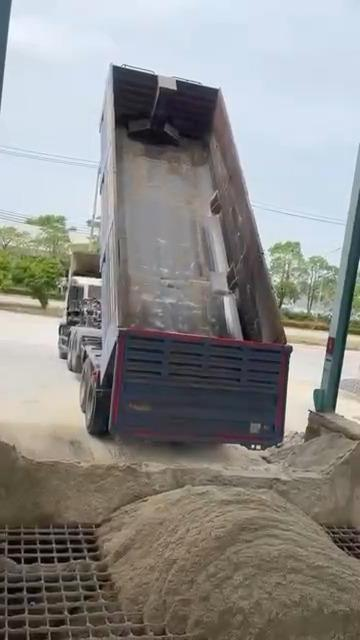sand: (1, 436, 360, 639), (1, 555, 96, 573)
